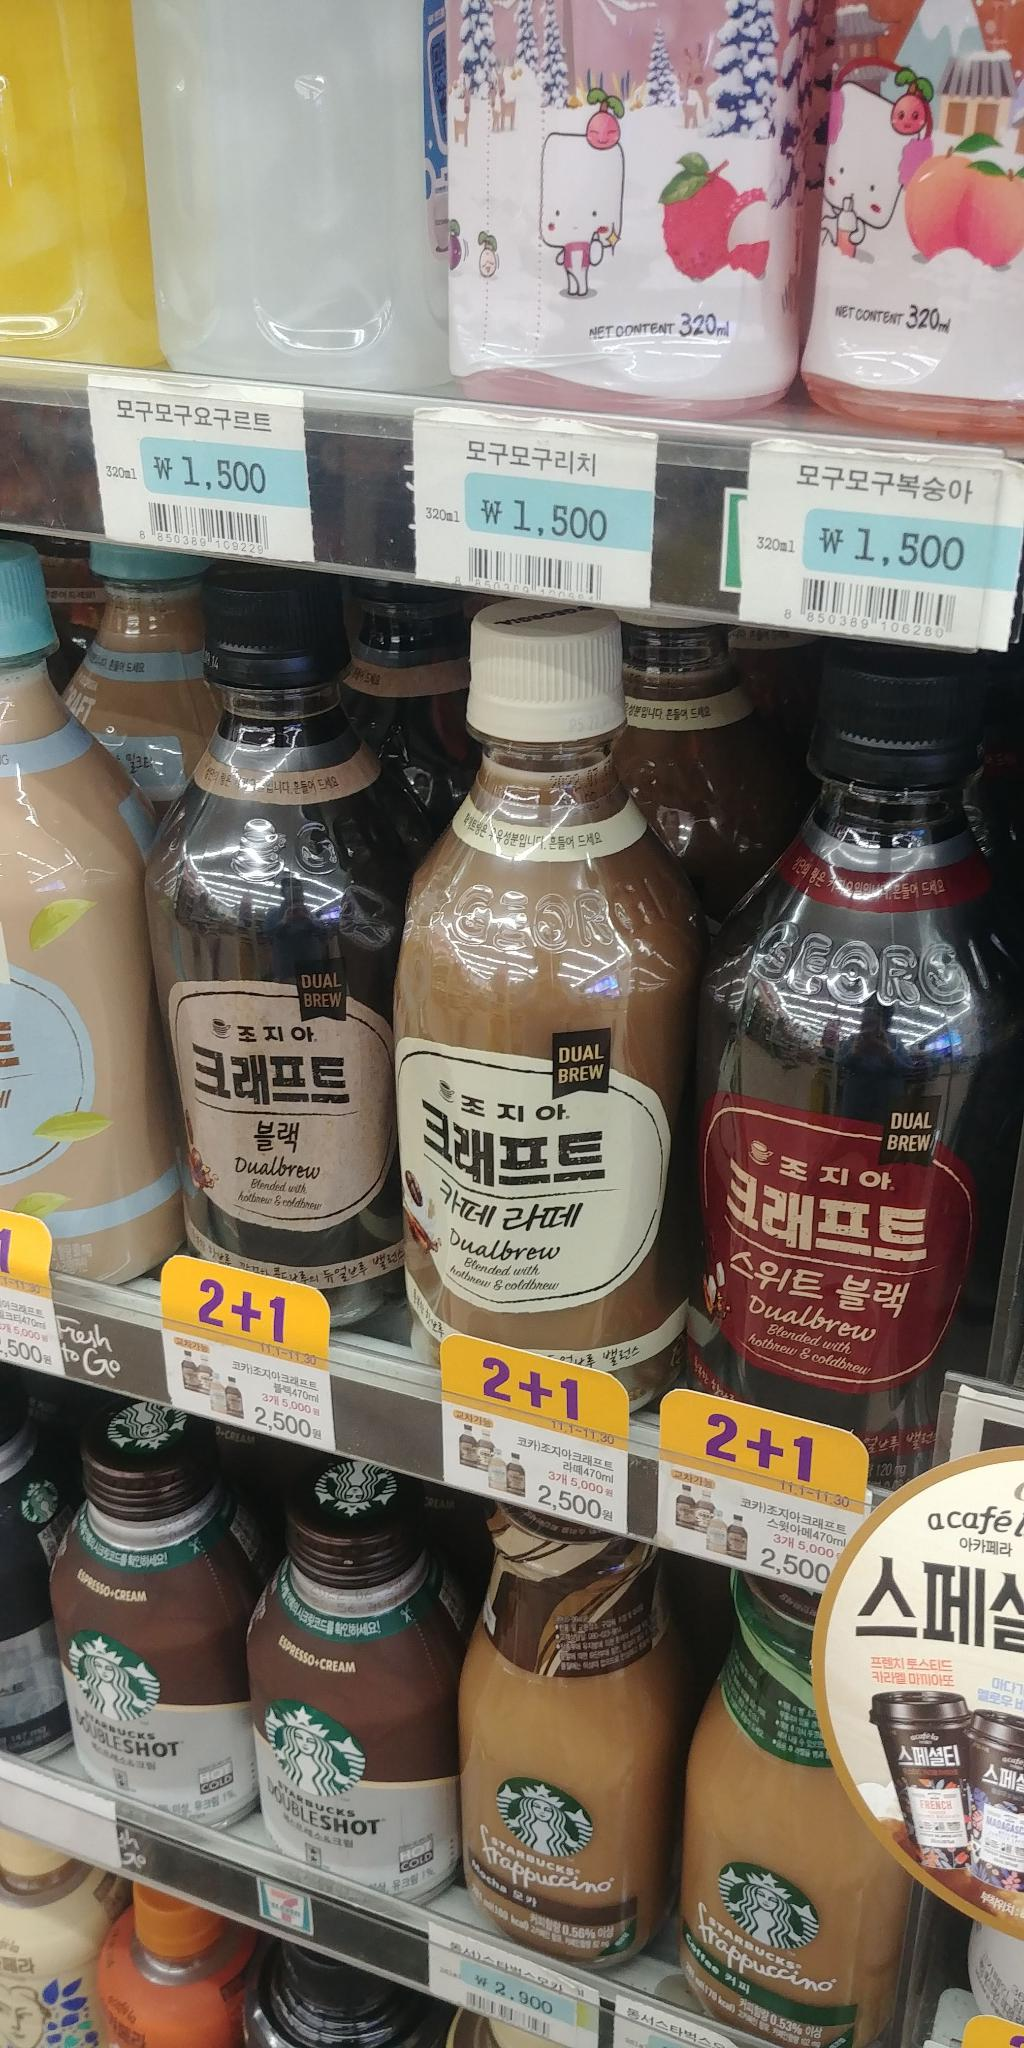georgiacraft_black: (132, 551, 428, 1339)
